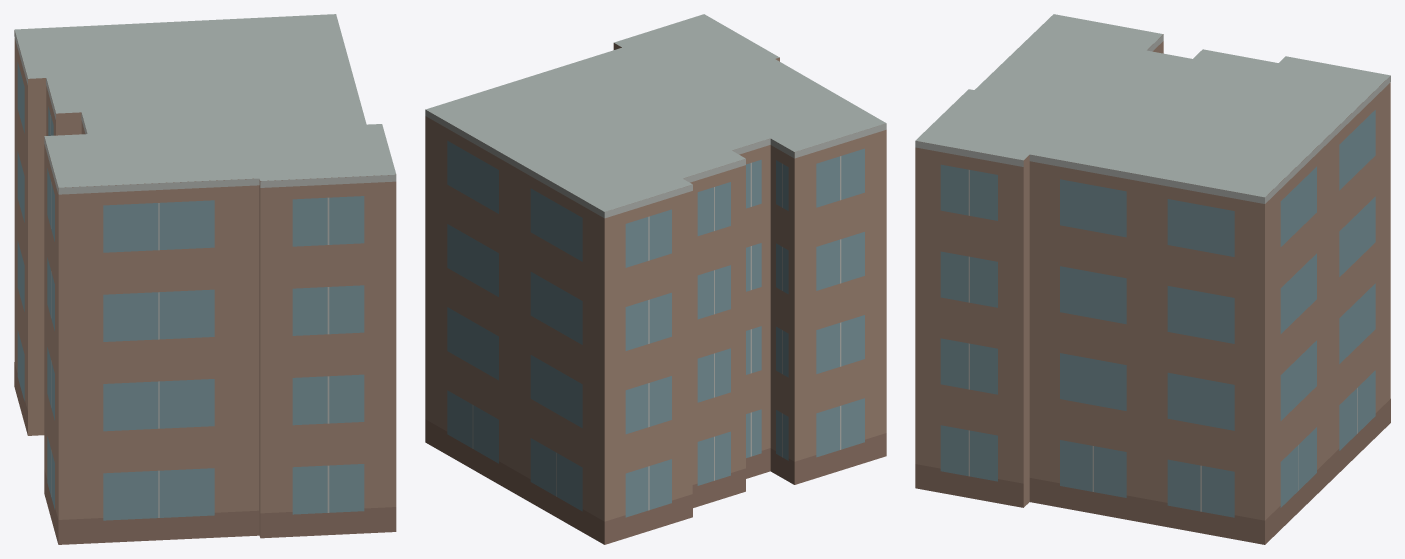
Rendered from survey-upis-33012862.glb.
3 views of the same model, side by side, from view 1: azimuth 30°, elevation 25°; view 2: azimuth 150°, elevation 25°; view 3: azimuth 270°, elevation 25° (orthographic). The views are drawn at different scales.
Visible parts, largest first — view 1: survey-upis-33012862.tmp; view 2: survey-upis-33012862.tmp; view 3: survey-upis-33012862.tmp.
Boxes of the visible parts, bbox=[...] form: survey-upis-33012862.tmp: bbox=[14, 14, 396, 544]; survey-upis-33012862.tmp: bbox=[425, 14, 886, 544]; survey-upis-33012862.tmp: bbox=[915, 14, 1390, 544].
Bounding box in the file's own units: 14.27 × 12.6 × 15.64.
